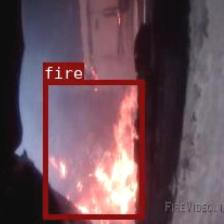fire: (43, 80, 144, 218)
